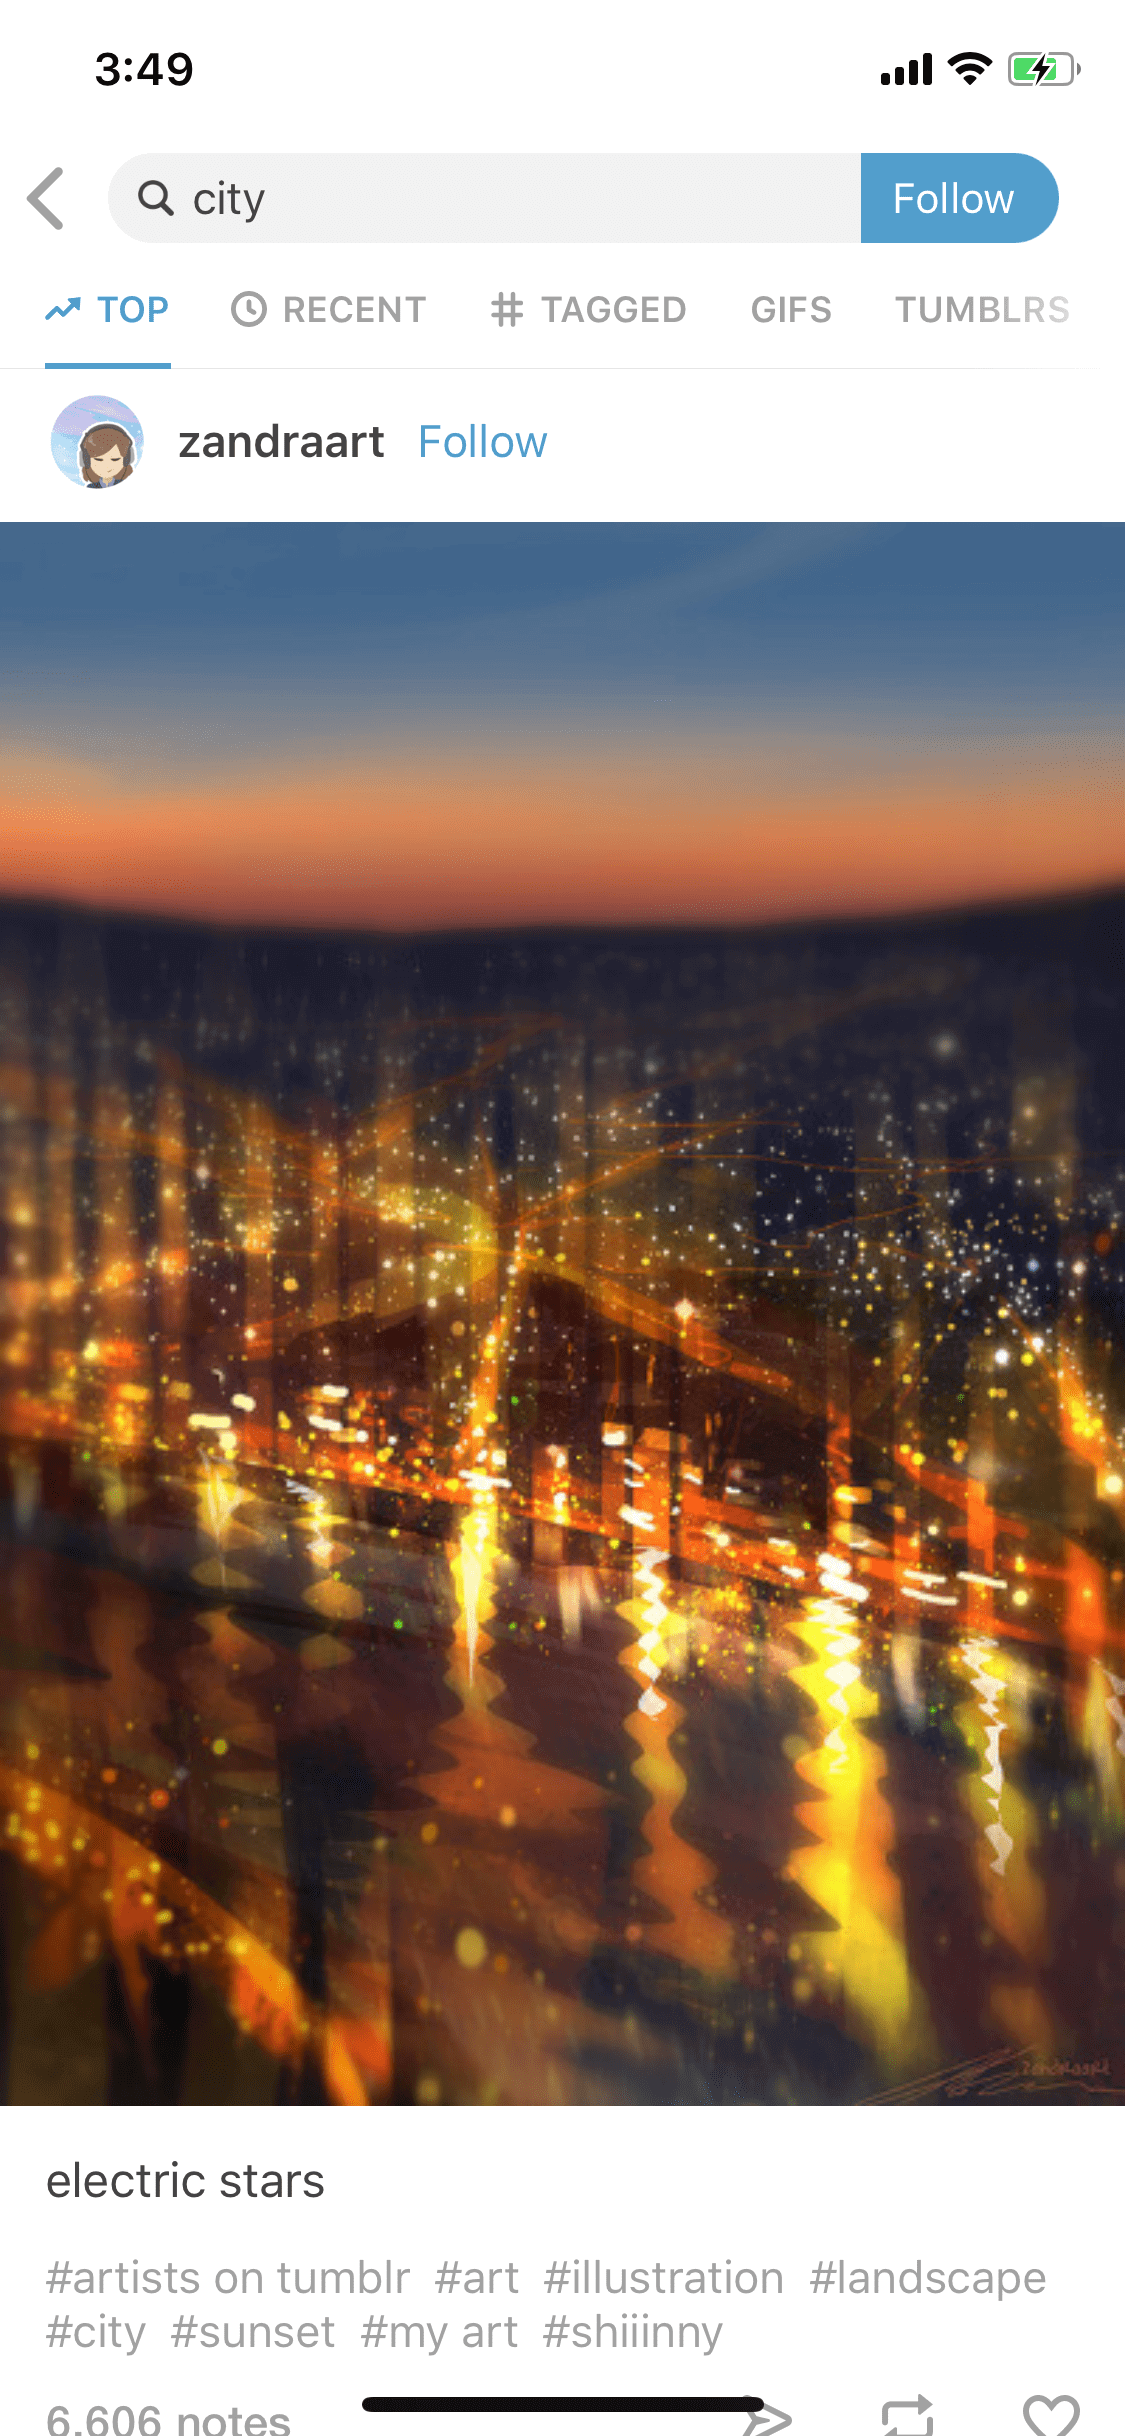Buttons: (395, 388, 569, 489), (12, 141, 99, 253)
